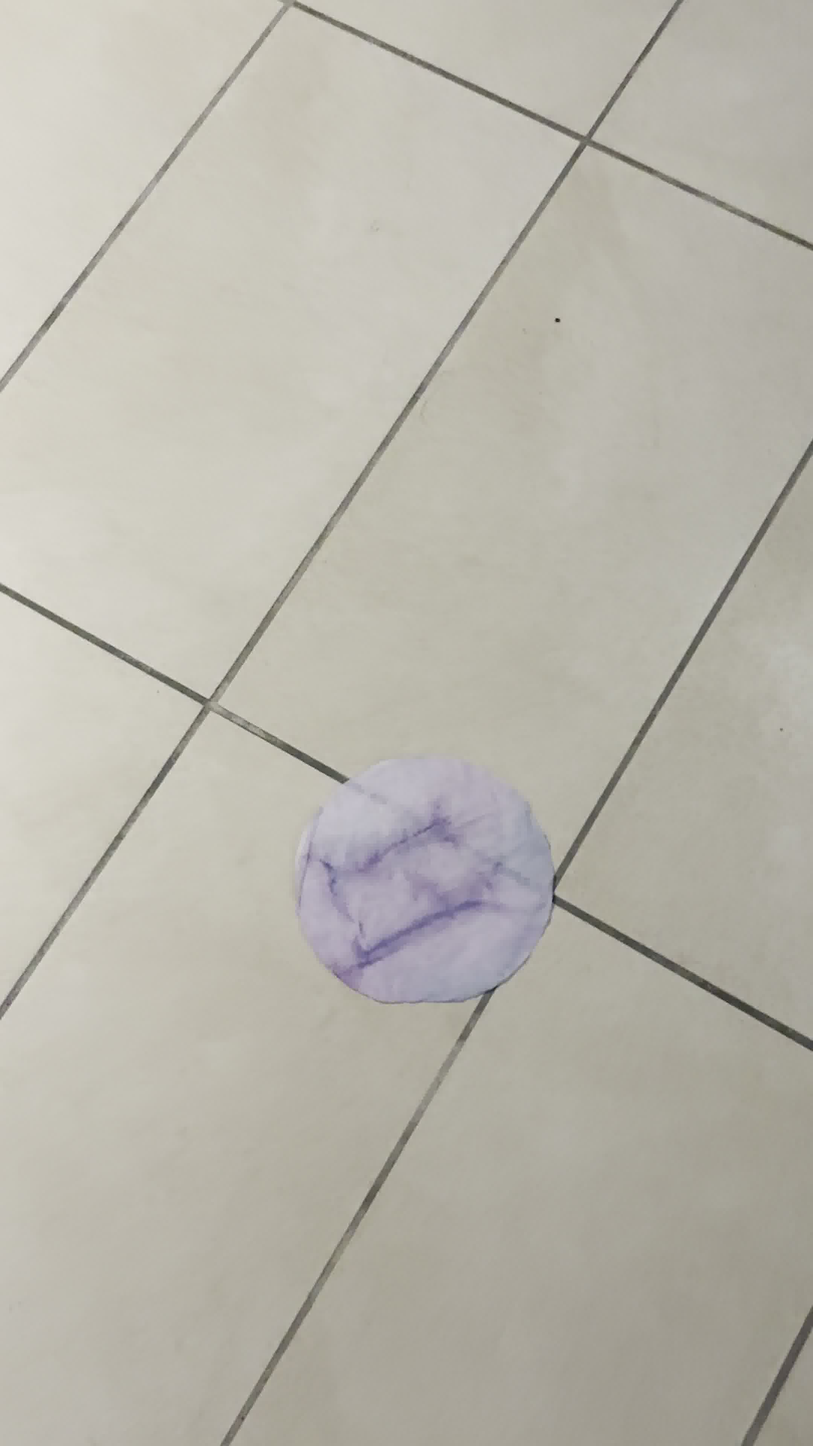Target: (290, 758, 556, 1008)
